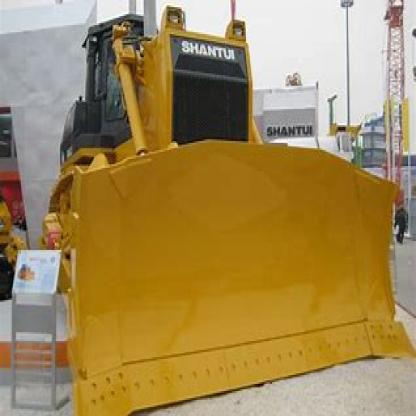bull_dozer/loader/grader: (33, 11, 414, 407)
